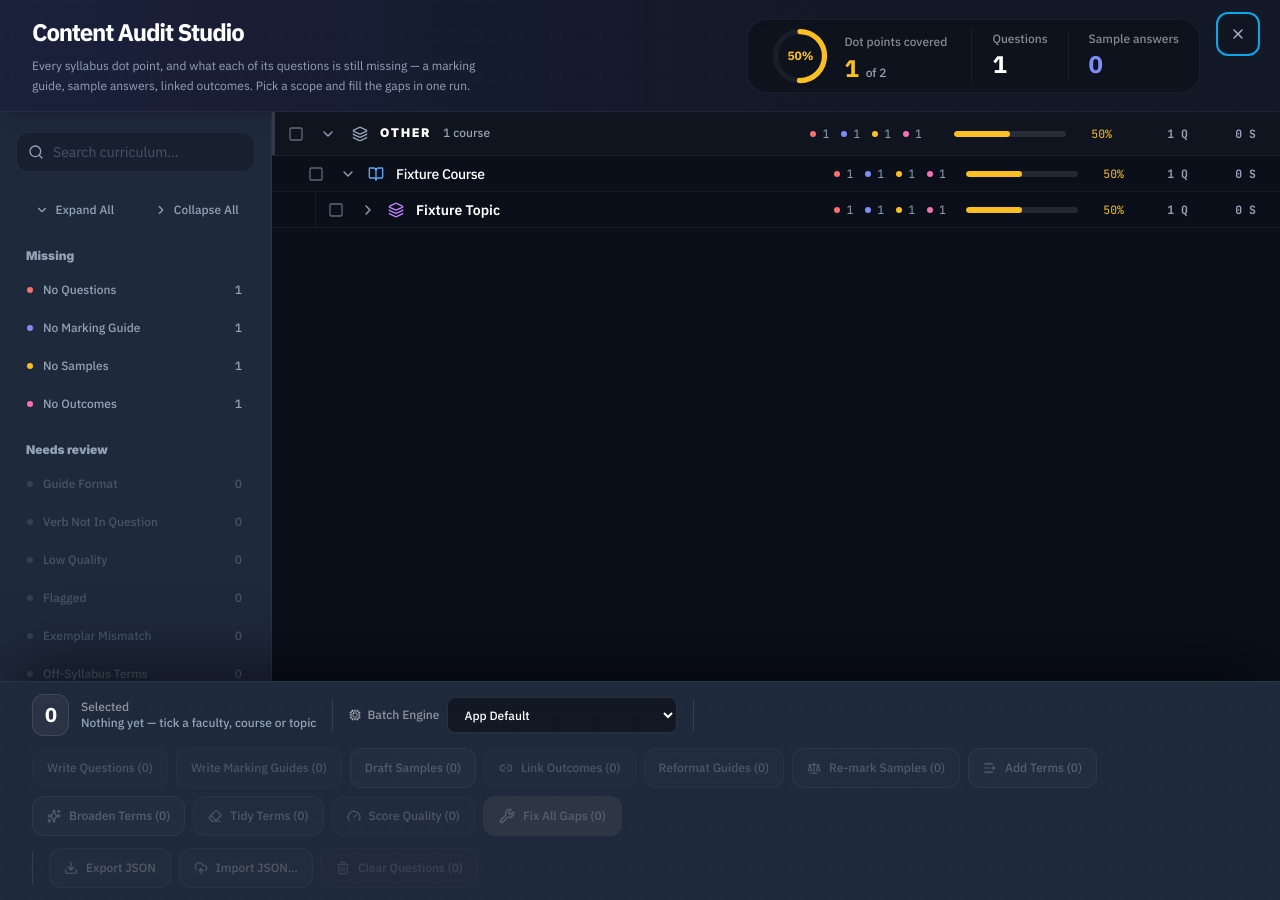
Test case: ContentAuditModal — gap visibility and batch targeting › annotates every action button with its true target count for the selection
Click the button named "Select Fixture Course" at x=316, y=174, box [308,166,324,182]
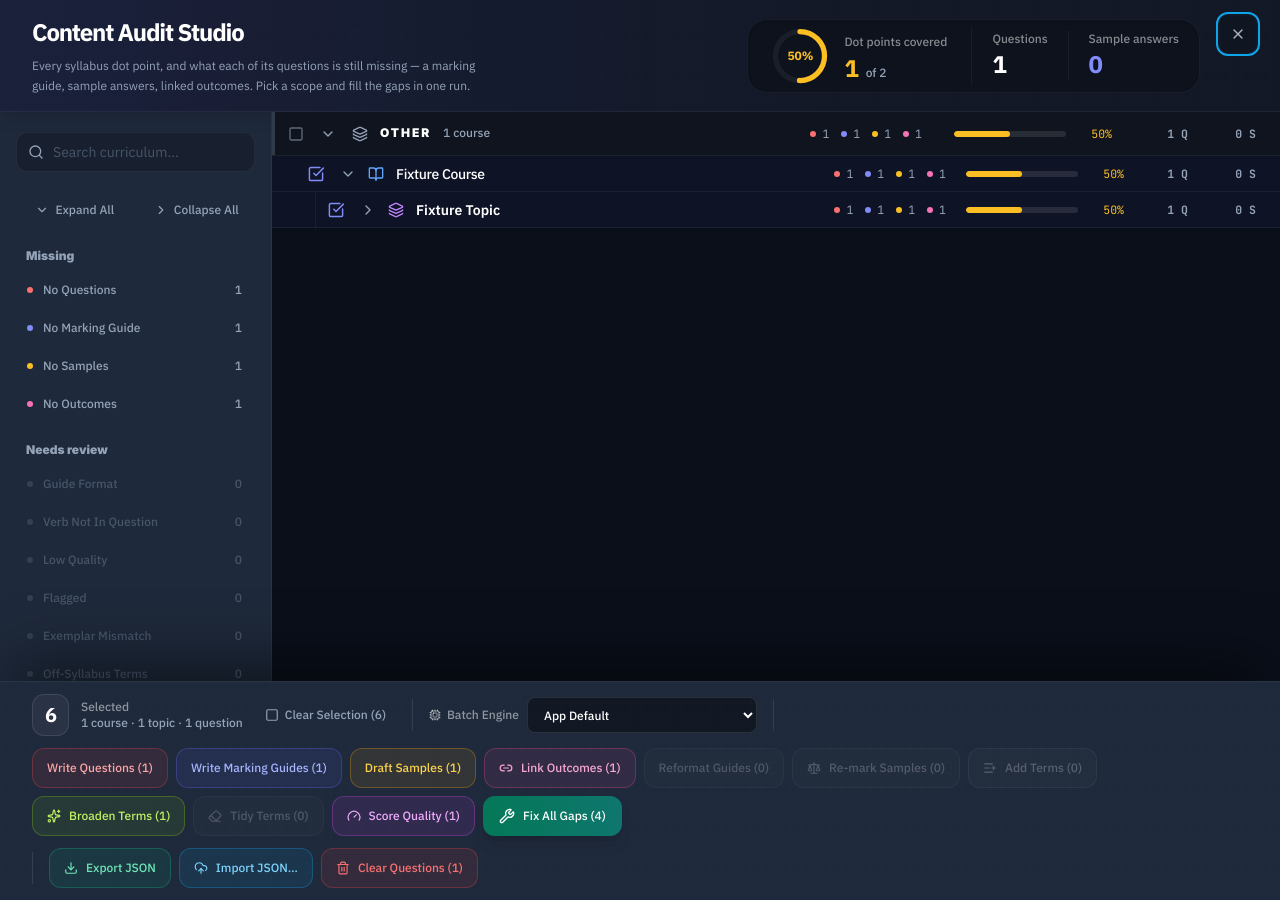
Expected: the button "Write Questions (1)" is shown, [32,748,168,788]
Expected: the button "Write Marking Guides (1)" is shown, [176,748,342,788]
Expected: the button "Draft Samples (1)" is shown, [350,748,476,788]
